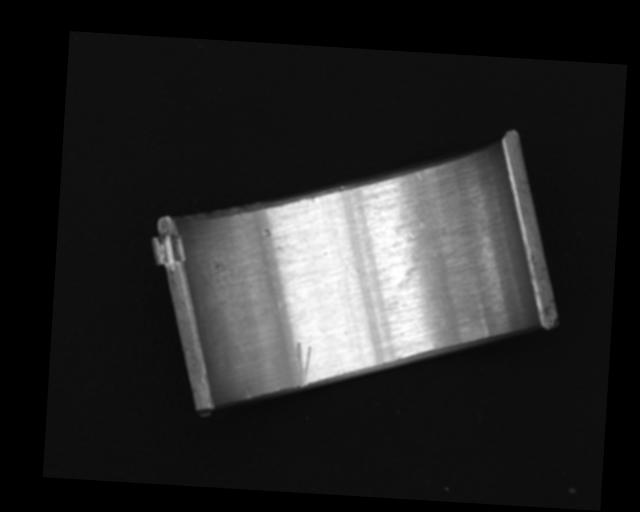bruise: (260, 227, 272, 238)
nick: (292, 342, 314, 387), (242, 386, 251, 400)
